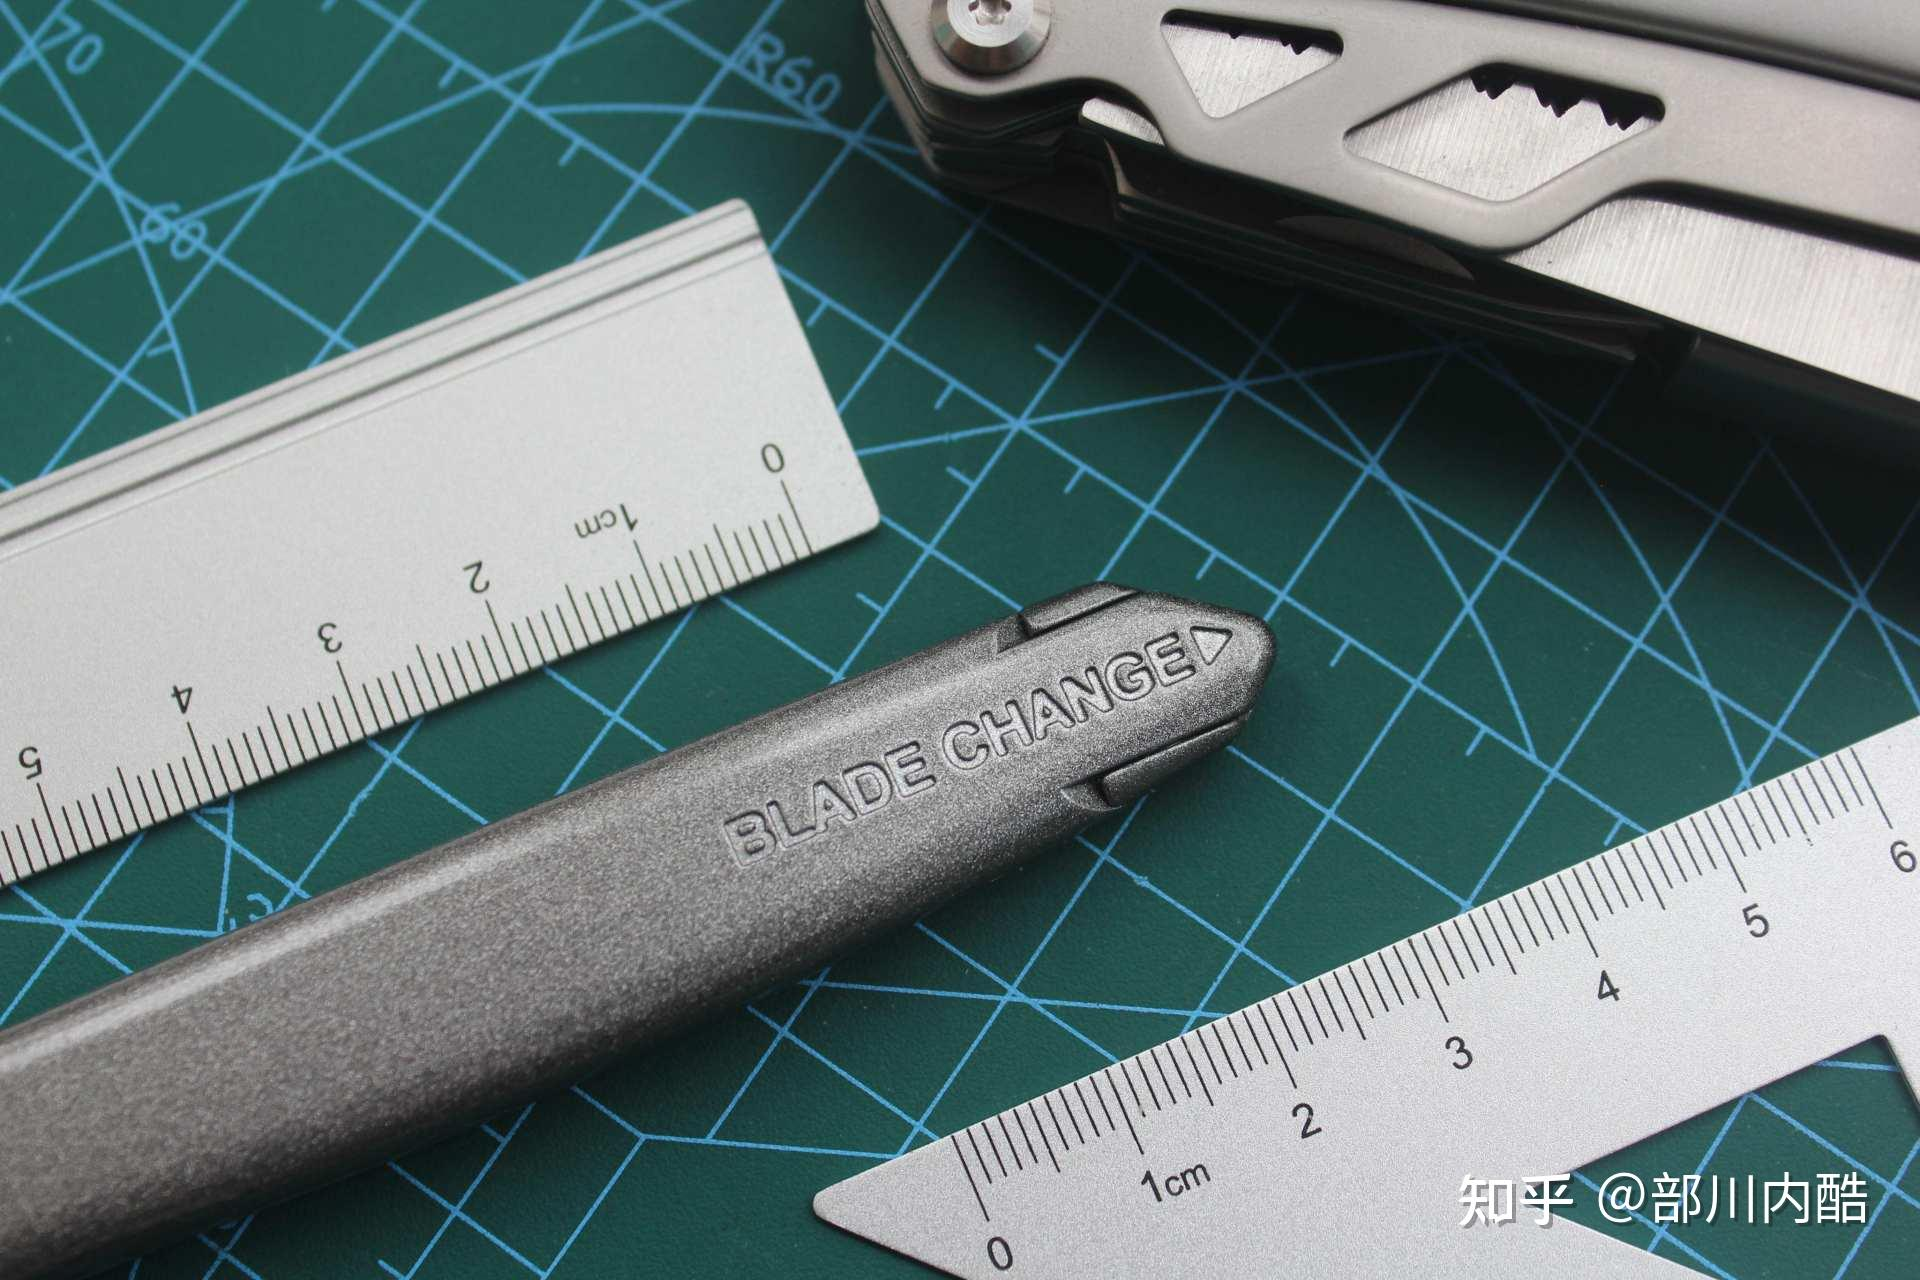cutter: (10, 577, 1284, 1259)
